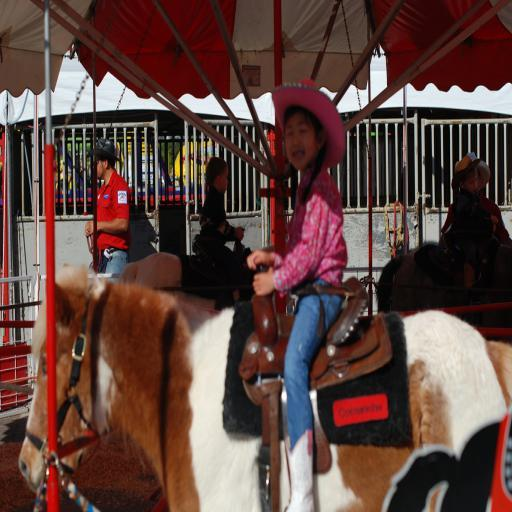Horse: (18, 260, 511, 512), (374, 240, 512, 345), (118, 252, 181, 292)
